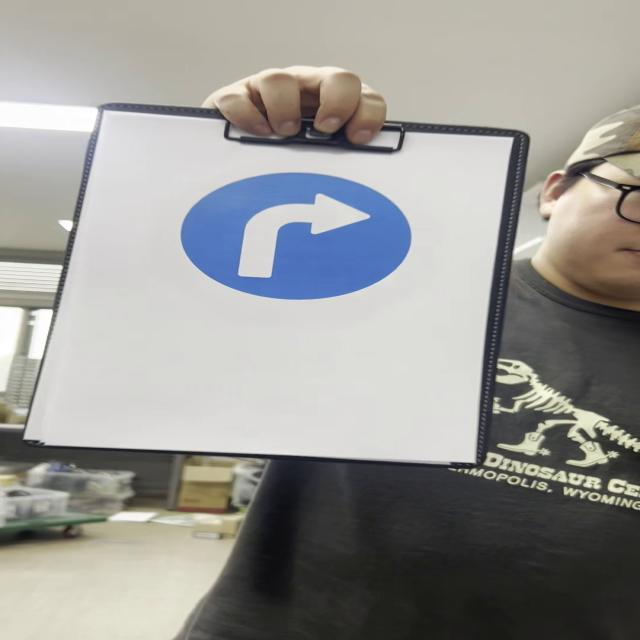right: (184, 172, 421, 302)
